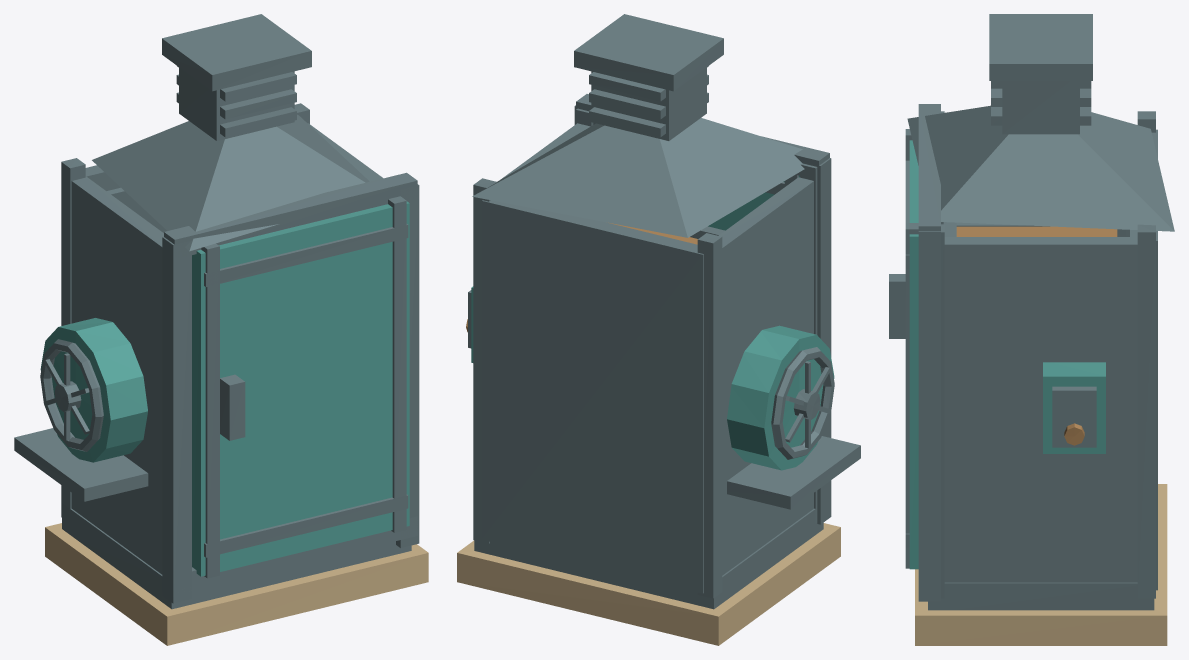
The model's file is Dehydrator.glb.
3 renders of one model, left to right at view 1: azimuth 30°, elevation 25°; view 2: azimuth 150°, elevation 25°; view 3: azimuth 270°, elevation 25°, orthographic. The views are drawn at different scales.
Parts seen in each view (by area): view 1: dehydrator-static-dehydrator-dark-iron-frame-hardware, dehydrator-static-dehydrator-muted-teal-service-panels, dehydrator-static-dehydrator-pale-galvanized-shell, dehydrator-static-dehydrator-grounded-cream-plinth; view 2: dehydrator-static-dehydrator-pale-galvanized-shell, dehydrator-static-dehydrator-dark-iron-frame-hardware, dehydrator-static-dehydrator-grounded-cream-plinth, dehydrator-static-dehydrator-muted-teal-service-panels; view 3: dehydrator-static-dehydrator-pale-galvanized-shell, dehydrator-static-dehydrator-dark-iron-frame-hardware, dehydrator-static-dehydrator-grounded-cream-plinth, dehydrator-static-dehydrator-muted-teal-service-panels, dehydrator-static-dehydrator-clean-empty-trays.
Boxes of the visible parts, x1,y1,x2,y2 form: dehydrator-static-dehydrator-dark-iron-frame-hardware: [14, 14, 419, 609]; dehydrator-static-dehydrator-muted-teal-service-panels: [40, 201, 409, 576]; dehydrator-static-dehydrator-pale-galvanized-shell: [71, 66, 382, 574]; dehydrator-static-dehydrator-grounded-cream-plinth: [45, 523, 428, 645]; dehydrator-static-dehydrator-pale-galvanized-shell: [472, 66, 813, 593]; dehydrator-static-dehydrator-dark-iron-frame-hardware: [468, 14, 860, 609]; dehydrator-static-dehydrator-grounded-cream-plinth: [457, 523, 840, 645]; dehydrator-static-dehydrator-muted-teal-service-panels: [471, 175, 834, 470]; dehydrator-static-dehydrator-pale-galvanized-shell: [907, 81, 1174, 590]; dehydrator-static-dehydrator-dark-iron-frame-hardware: [889, 14, 1155, 610]; dehydrator-static-dehydrator-grounded-cream-plinth: [915, 484, 1167, 645]; dehydrator-static-dehydrator-muted-teal-service-panels: [909, 140, 1105, 569]; dehydrator-static-dehydrator-clean-empty-trays: [956, 226, 1117, 445].
Size of the model in its own units: 2.21 by 3.22 by 1.54.
